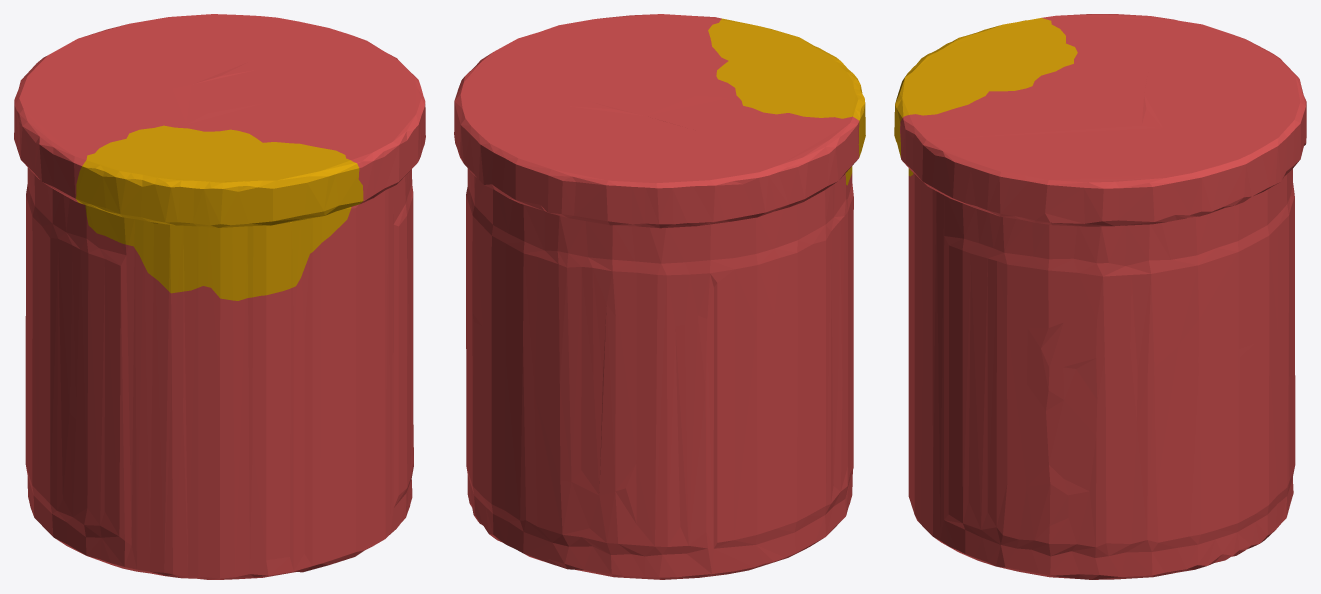
Rendered from fractured_18_2pcs.glb.
The picture shows the model from 3 angles, left to right: view 1: azimuth 30°, elevation 25°; view 2: azimuth 150°, elevation 25°; view 3: azimuth 270°, elevation 25°; orthographic projection.
Parts seen in each view (by area): view 1: piece_1.obj, piece_0.obj; view 2: piece_1.obj, piece_0.obj; view 3: piece_1.obj, piece_0.obj.
Part boxes in pixels (box(x1,y1,x2,y2)): piece_1.obj: box(14, 14, 425, 579); piece_0.obj: box(75, 125, 363, 300); piece_1.obj: box(454, 14, 859, 579); piece_0.obj: box(708, 18, 865, 185); piece_1.obj: box(900, 14, 1306, 579); piece_0.obj: box(894, 18, 1077, 176).
Bounding box in the file's own units: 0.9259 × 1 × 0.9247.
